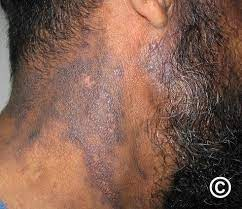Melasma: (140, 39, 177, 102), (71, 12, 149, 36)
